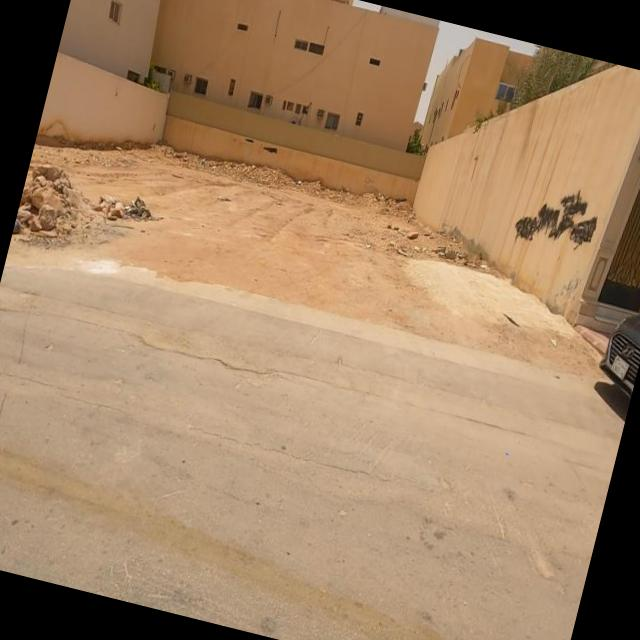debris: (444, 108, 640, 337)
